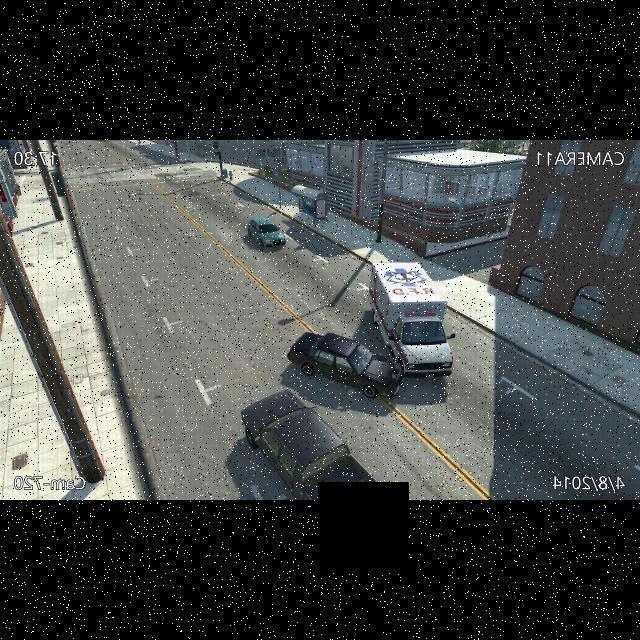accident: (280, 257, 460, 400)
